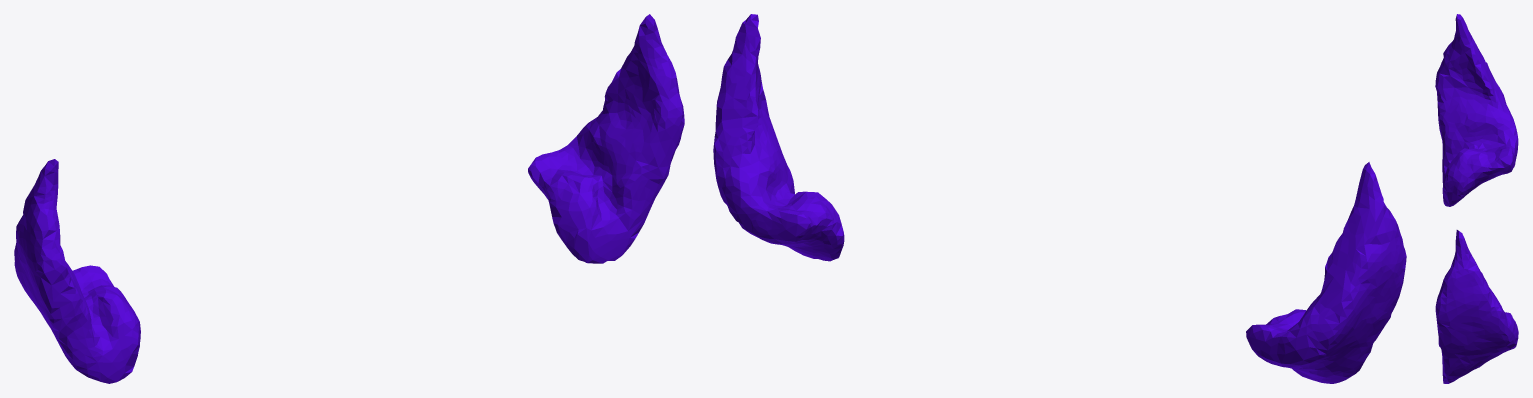
Rendered from 171-TEO-temporal area TE, occipital part-('0.3843', '0.0000', '1.0000').obj.
The picture shows the model from 3 angles, left to right: view 1: azimuth 30°, elevation 25°; view 2: azimuth 150°, elevation 25°; view 3: azimuth 270°, elevation 25°; orthographic projection. The views are drawn at different scales.
Size of the model in its own units: 364 by 124 by 54.7.
